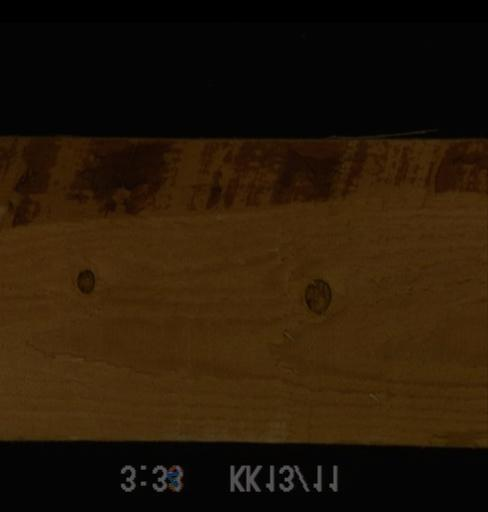dry_knot: (302, 276, 331, 314), (74, 268, 94, 295)
wave: (0, 136, 486, 244), (428, 425, 486, 444)
